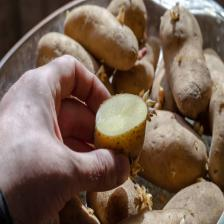Sprouted potato: (126, 106, 209, 198), (157, 1, 217, 122), (61, 4, 142, 75)
